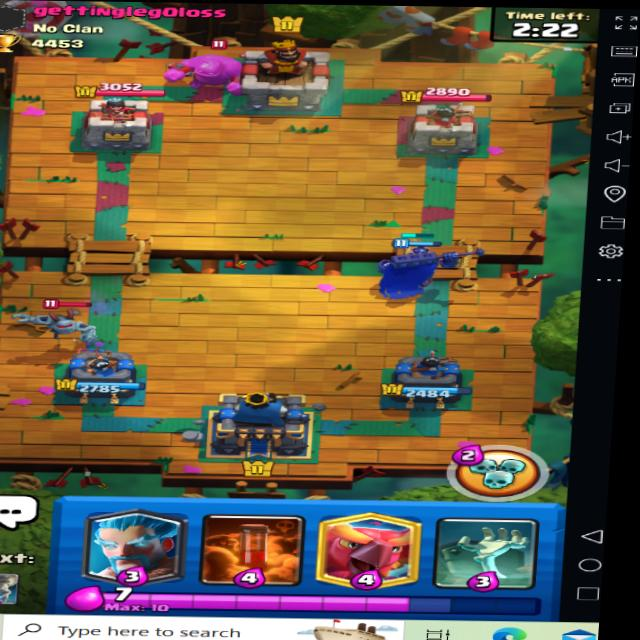electro-golem: (151, 37, 250, 97)
mega-minion: (24, 285, 104, 347)
